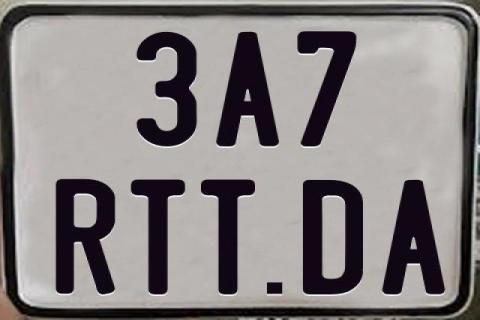0: (134, 31, 196, 146), (295, 29, 356, 144)
A: (381, 179, 447, 299), (214, 31, 279, 148)
D: (303, 179, 365, 297)
R: (54, 177, 118, 293)
T: (200, 177, 256, 295), (128, 180, 183, 296)
